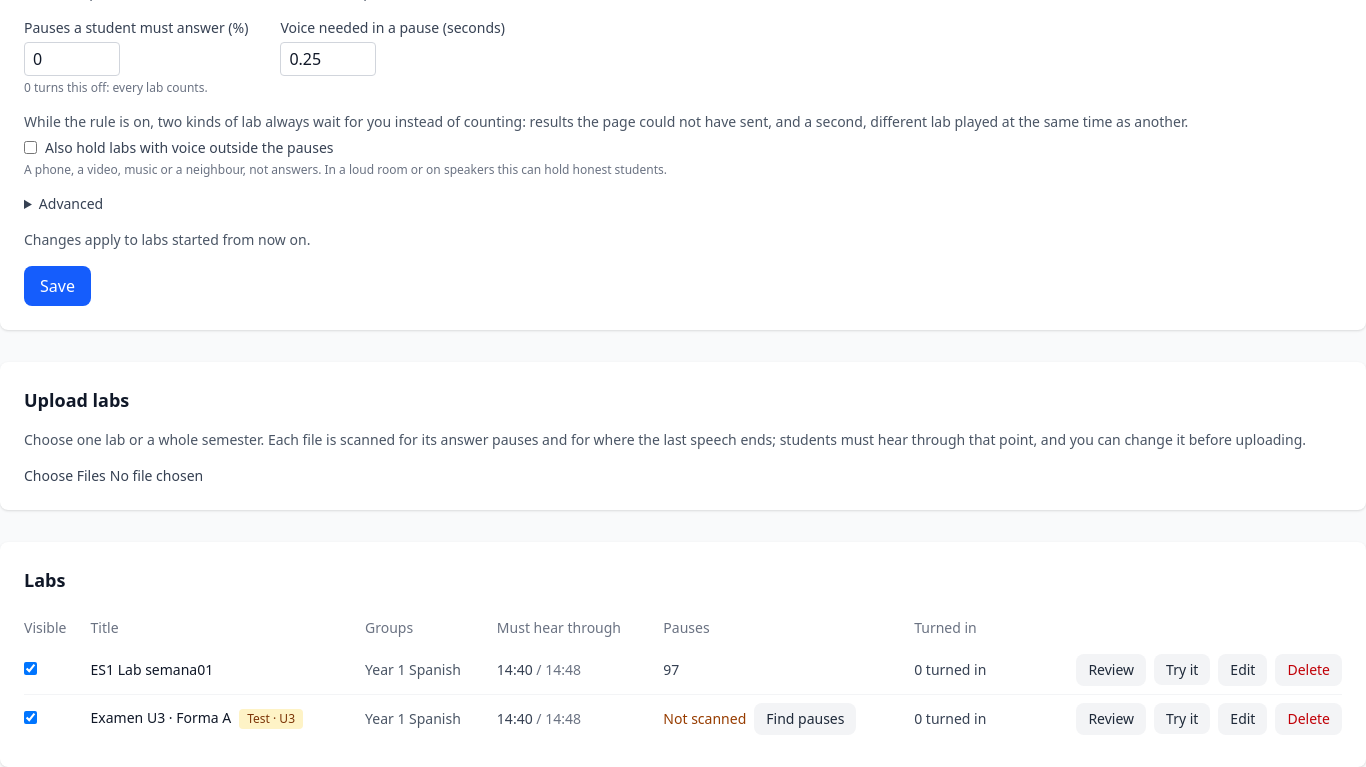
LabManager: the lab editor’s exam switch › warns that moving a test to another set charges its past players there, and resets do not carry over
(page scrolled)
Step 1. Click the button "Edit" in the row of "Test · U3" → (1243, 718), box [1218,702,1268,734]
(page scrolled)
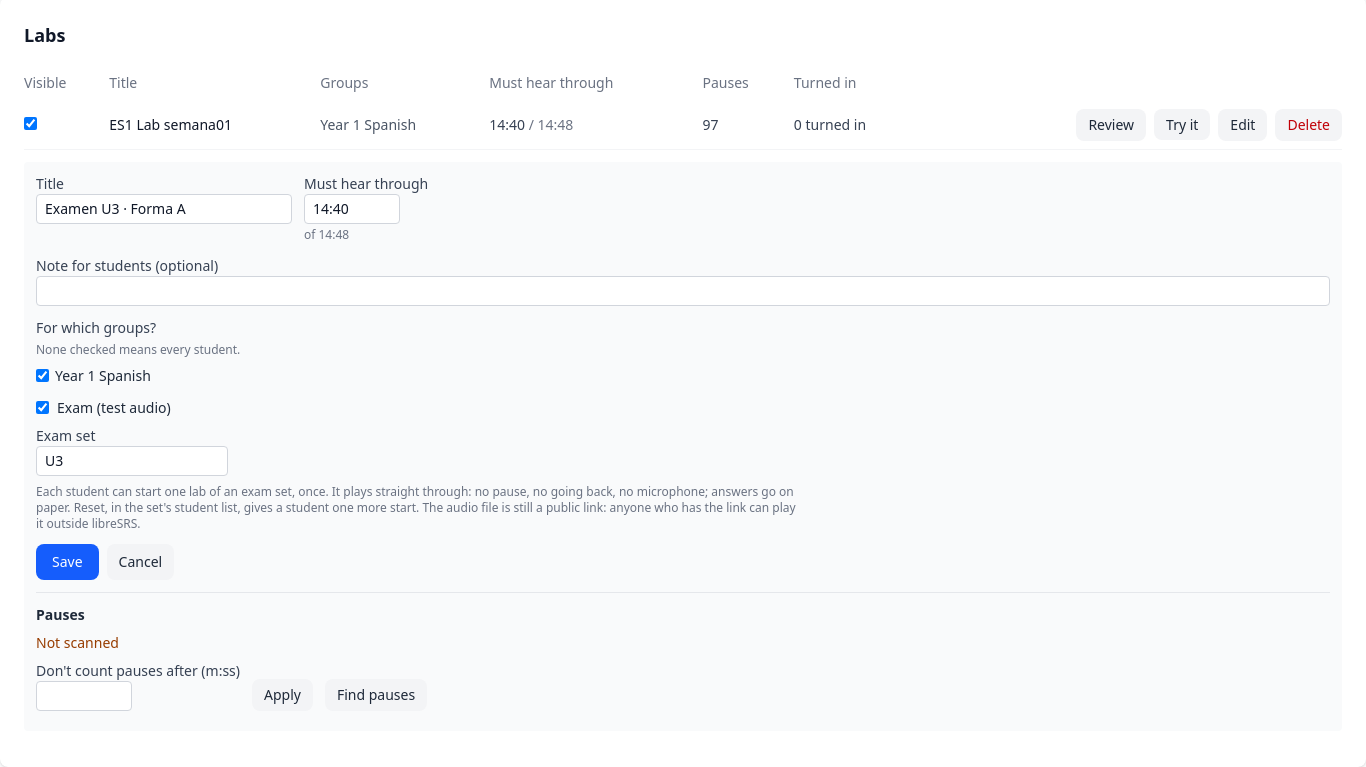
Step 2. Replace the text in the field labelled "Exam set" with "u3" → (132, 460), box [36,446,228,476]
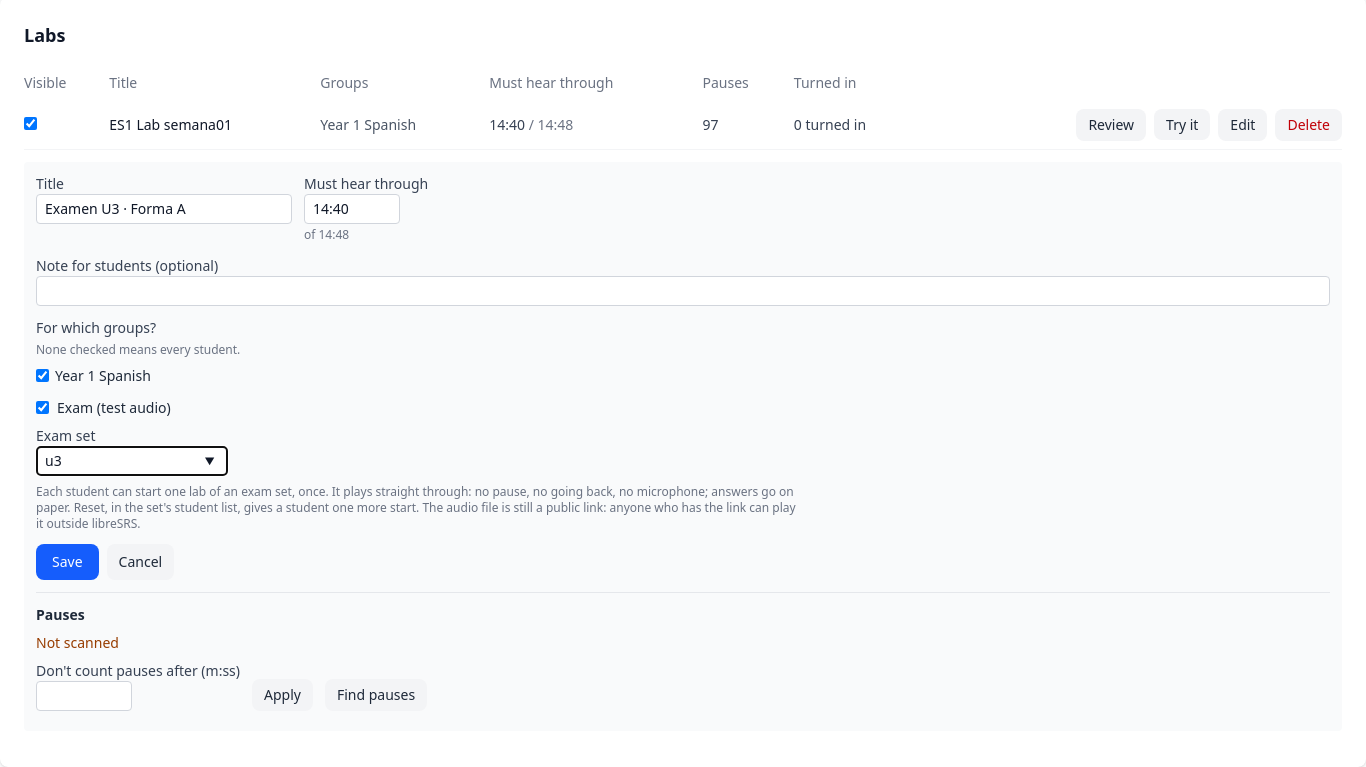
Step 3. Replace the text in the field labelled "Exam set" with "U4" → (132, 460), box [36,446,228,476]
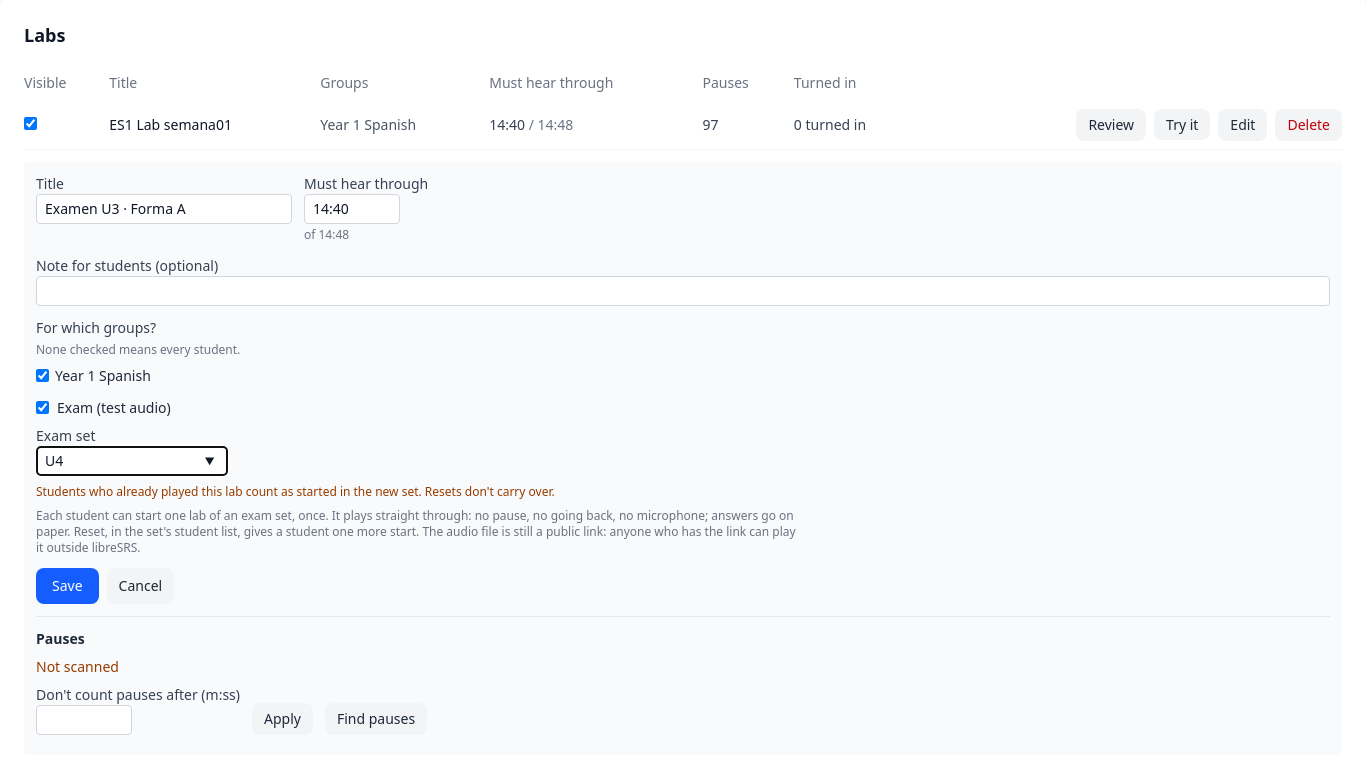
Now the text "Students who already played this lab count as started in the new set. Resets don't carry over." is shown, box [36,482,555,500]
